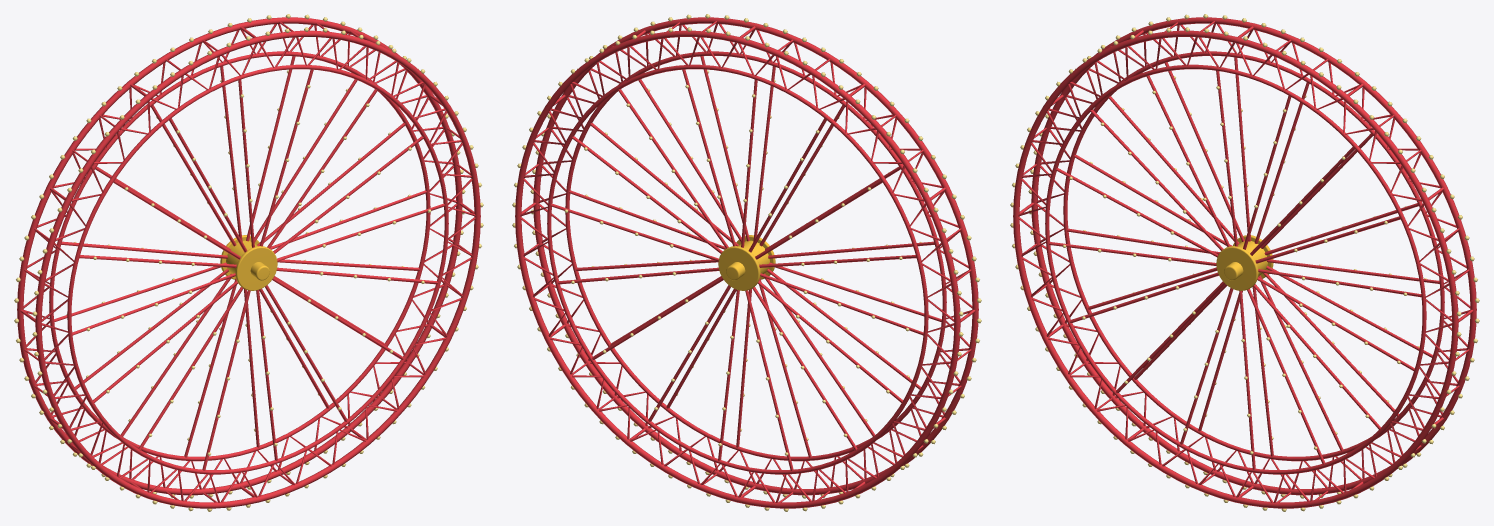
Rendered from LobbyFerrisWheel.obj.
3 renders of one model, left to right at view 1: azimuth 30°, elevation 25°; view 2: azimuth 150°, elevation 25°; view 3: azimuth 330°, elevation 25°, orthographic.
Parts seen in each view (by area): view 1: Frame, Lights, Hub; view 2: Frame, Lights, Hub; view 3: Frame, Lights, Hub.
Boxes of the visible parts, x1=… form: Frame: x1=17, y1=17, x2=480, y2=508; Lights: x1=14, y1=14, x2=483, y2=511; Hub: x1=220, y1=235, x2=277, y2=290; Frame: x1=515, y1=17, x2=978, y2=508; Lights: x1=512, y1=14, x2=981, y2=511; Hub: x1=718, y1=235, x2=775, y2=290; Frame: x1=1013, y1=17, x2=1476, y2=508; Lights: x1=1010, y1=14, x2=1479, y2=511; Hub: x1=1216, y1=235, x2=1273, y2=290.
Bounding box in the file's own units: 65.62 × 65.62 × 7.4.
